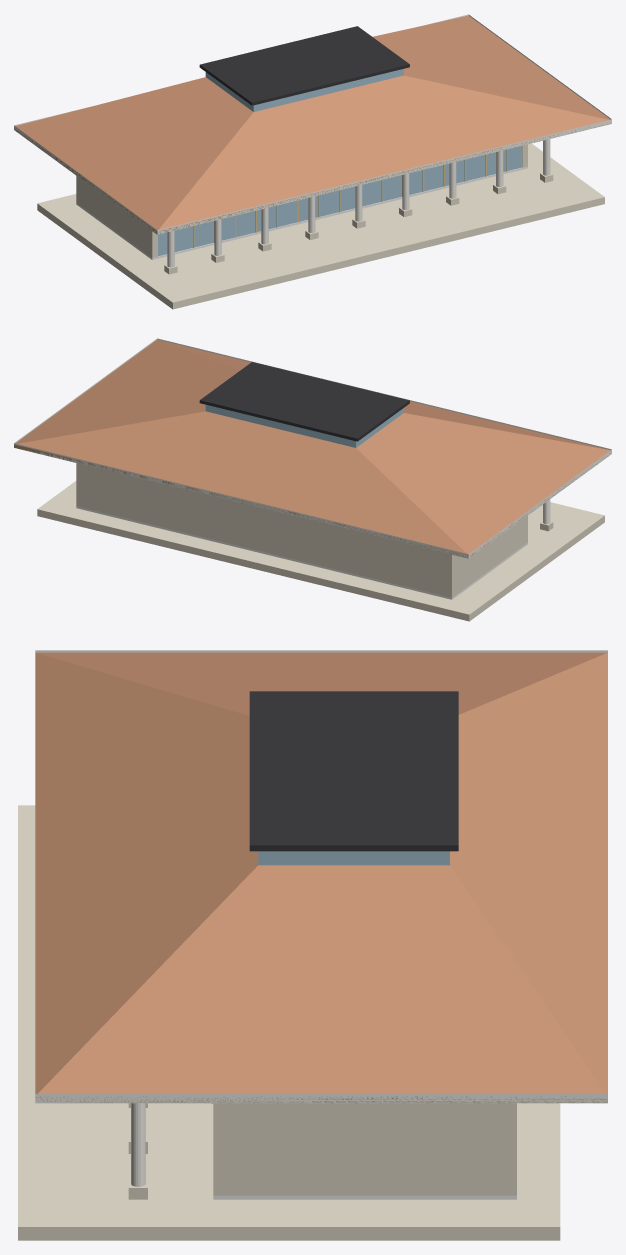
File: E5-7_complexo.fbx
3 renders of one model, top to bottom at view 1: azimuth 30°, elevation 25°; view 2: azimuth 150°, elevation 25°; view 3: azimuth 270°, elevation 25°, orthographic. The views are drawn at different scales.
Visible parts, largest first — view 1: E5-7_complexo; view 2: E5-7_complexo; view 3: E5-7_complexo.
Boxes of the visible parts, box(x1,y1,x2,y2) form: E5-7_complexo: box(14, 14, 611, 309); E5-7_complexo: box(14, 338, 611, 621); E5-7_complexo: box(18, 650, 607, 1240).
Bounding box in the file's own units: 48.4 × 13.3 × 27.2.
